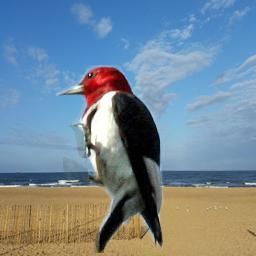Woodpecker: (54, 65, 166, 253)
